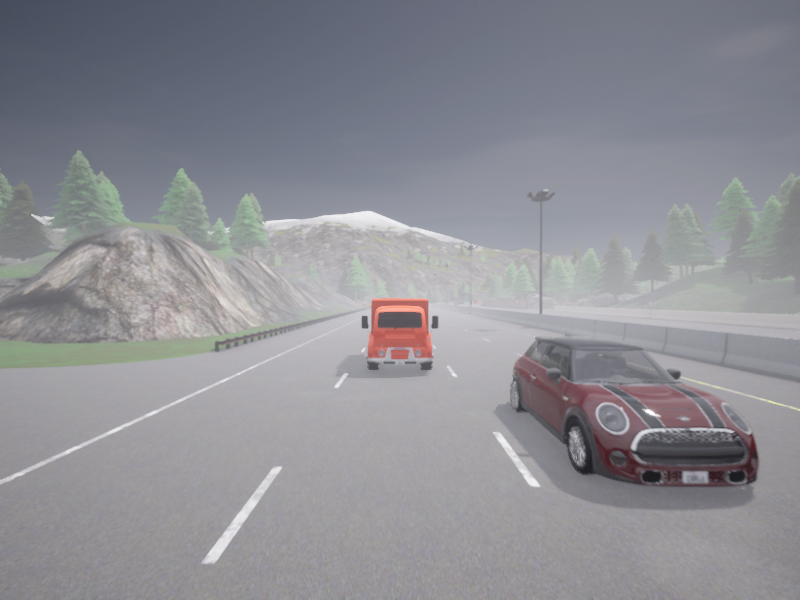vehicle: (510, 330, 758, 486), (362, 298, 437, 369), (457, 301, 464, 304), (474, 300, 480, 303), (455, 302, 459, 304)
